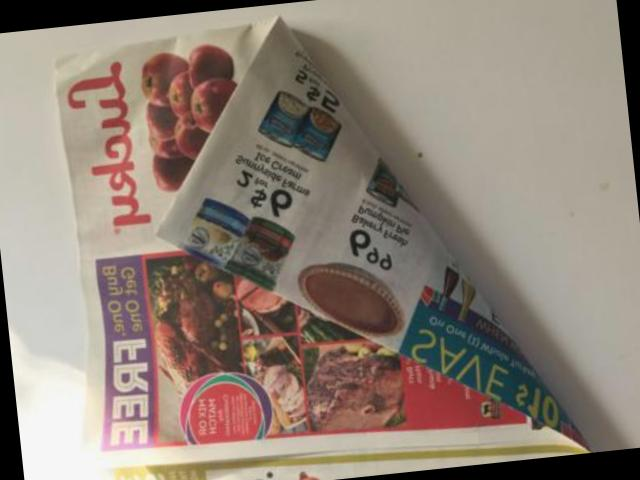cardboard paper: (54, 20, 585, 480)
